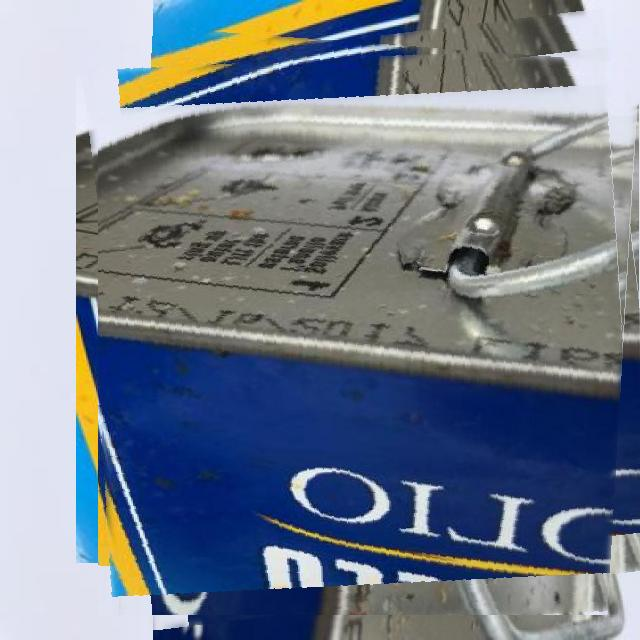recyclable: (98, 23, 640, 615)
